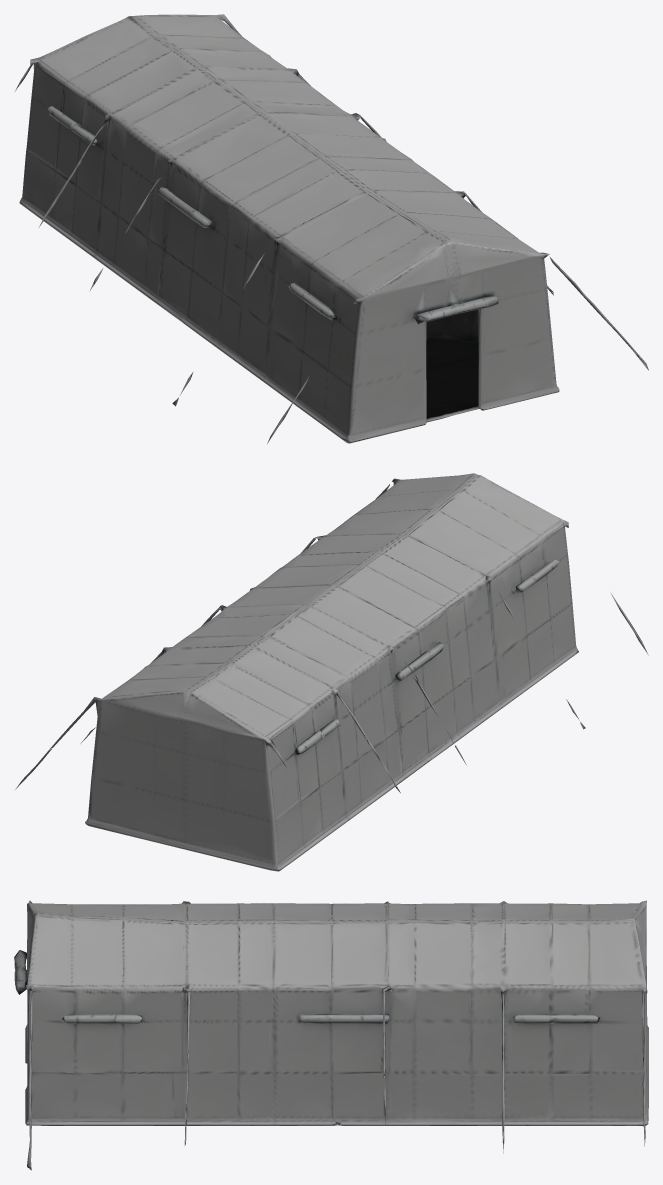
File: tenda_roder_kecil.glb
3 renders of one model, top to bottom at view 1: azimuth 30°, elevation 25°; view 2: azimuth 150°, elevation 25°; view 3: azimuth 270°, elevation 25°, orthographic. The views are drawn at different scales.
Parts seen in each view (by area): view 1: tripo_node_33ec0ede; view 2: tripo_node_33ec0ede; view 3: tripo_node_33ec0ede.
Boxes of the visible parts, x1,y1,x2,y2 form: tripo_node_33ec0ede: [15, 14, 648, 443]; tripo_node_33ec0ede: [15, 473, 648, 871]; tripo_node_33ec0ede: [14, 900, 648, 1170].
Bounding box in the file's own units: 67.65 × 28.78 × 100.
Materials: 1 (1 with a texture image).
